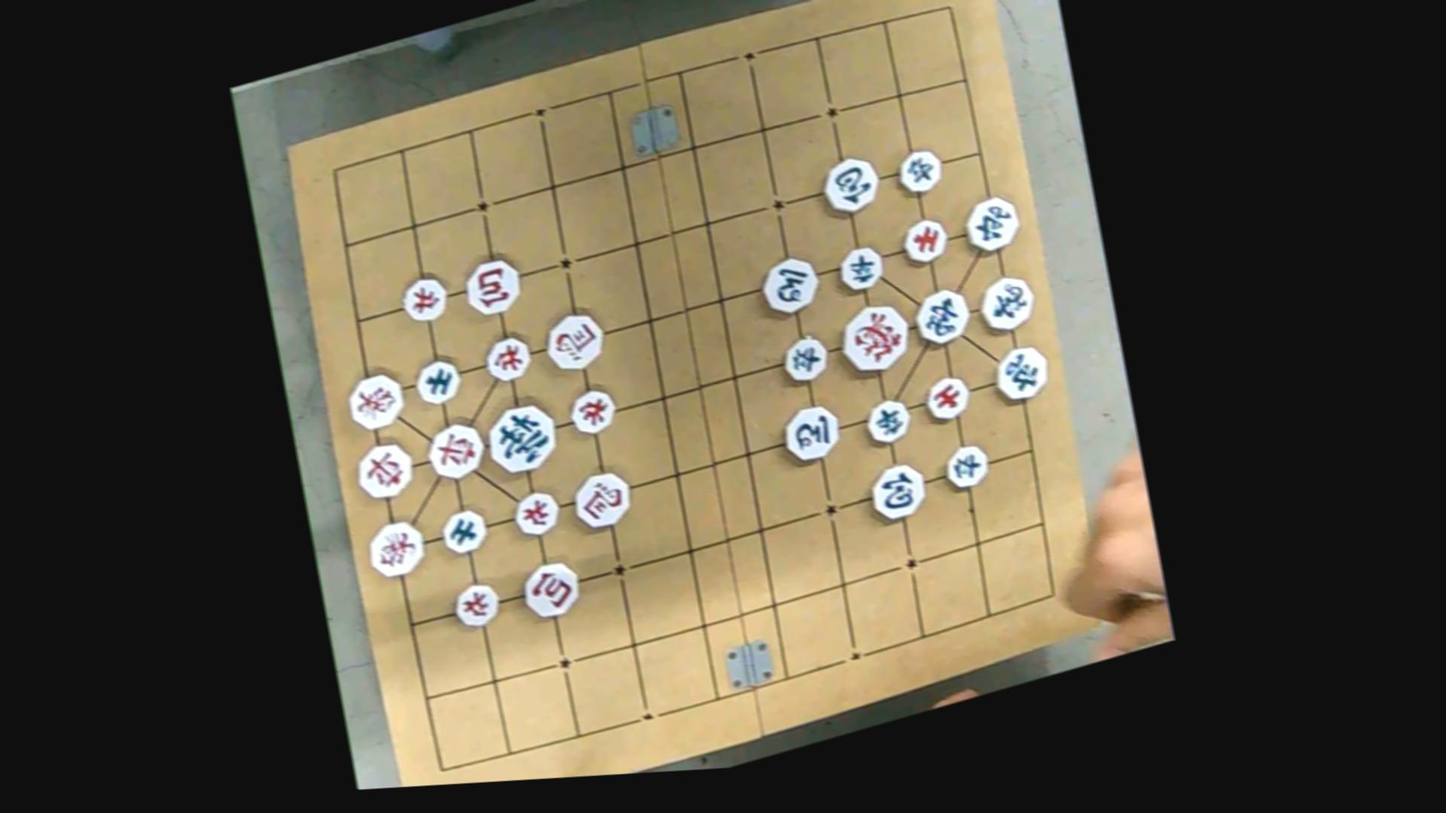cha_green: (959, 187, 1022, 257), (987, 334, 1050, 403)
cha_red: (423, 414, 488, 487), (352, 437, 416, 504)
jol_green: (778, 327, 831, 386), (892, 143, 943, 199), (941, 438, 991, 494), (836, 240, 889, 292), (861, 396, 913, 448)
jol_red: (565, 381, 621, 438), (401, 270, 451, 330), (508, 485, 563, 538), (482, 333, 536, 385), (452, 577, 502, 629)
ma_green: (776, 397, 842, 468), (758, 250, 822, 321)
ma_red: (539, 303, 609, 376), (572, 461, 638, 534)
po_green: (816, 150, 882, 221), (865, 455, 929, 524)
po_red: (518, 556, 584, 624), (462, 254, 523, 318)
sa_green: (437, 501, 488, 558), (414, 352, 464, 407)
sa_red: (923, 367, 974, 425), (898, 213, 947, 267)
sang_green: (908, 280, 975, 354), (975, 270, 1037, 339)
sang_red: (361, 510, 430, 587), (345, 367, 408, 436)
wang_green: (480, 395, 561, 478)
wang_red: (834, 294, 914, 382)
